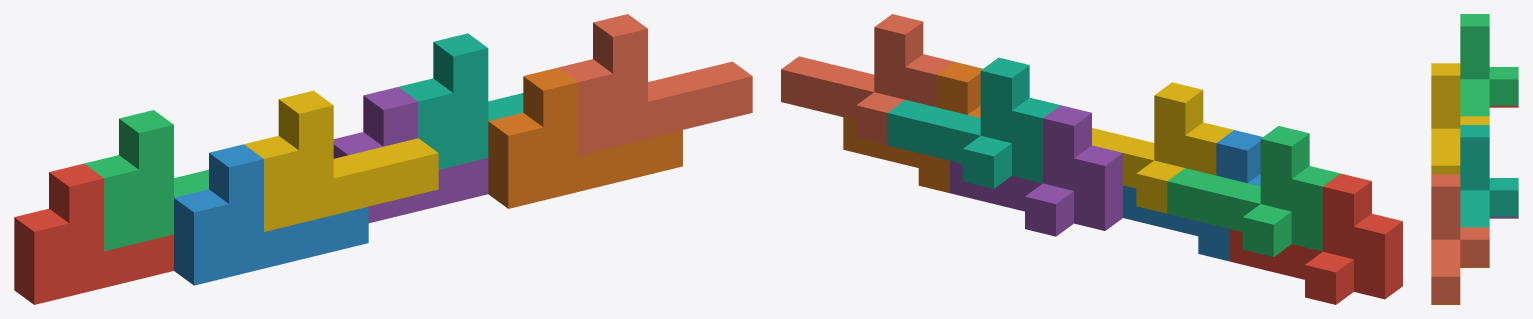
The model's file is tiling.obj.
3 renders of one model, left to right at view 1: azimuth 30°, elevation 25°; view 2: azimuth 150°, elevation 25°; view 3: azimuth 270°, elevation 25°, orthographic. The views are drawn at different scales.
Visible parts, largest first — view 1: copy_1_domain_4, copy_1_domain_8, copy_1_domain_6, copy_1_domain_2, copy_1_domain_1, copy_1_domain_3, copy_1_domain_7, copy_1_domain_5; view 2: copy_1_domain_3, copy_1_domain_7, copy_1_domain_1, copy_1_domain_5, copy_1_domain_8, copy_1_domain_4, copy_1_domain_2, copy_1_domain_6; view 3: copy_1_domain_8, copy_1_domain_3, copy_1_domain_7, copy_1_domain_4, copy_1_domain_6, copy_1_domain_1, copy_1_domain_5.
Part boxes in pixels (x1,y1,x2,y2): copy_1_domain_4: (244,90,438,231); copy_1_domain_8: (558,14,752,155); copy_1_domain_6: (488,67,682,208); copy_1_domain_2: (174,144,368,285); copy_1_domain_1: (14,163,173,304); copy_1_domain_3: (84,110,208,251); copy_1_domain_7: (399,33,523,169); copy_1_domain_5: (333,87,488,223); copy_1_domain_3: (1167,126,1340,257); copy_1_domain_7: (887,57,1060,188); copy_1_domain_1: (1229,173,1402,304); copy_1_domain_5: (949,105,1122,236); copy_1_domain_8: (781,14,953,145); copy_1_domain_4: (1092,82,1233,213); copy_1_domain_2: (1123,130,1262,261); copy_1_domain_6: (843,61,982,192); copy_1_domain_8: (1431,174,1489,303); copy_1_domain_3: (1460,14,1518,116); copy_1_domain_7: (1460,125,1518,227); copy_1_domain_4: (1431,63,1489,174); copy_1_domain_6: (1431,266,1489,304); copy_1_domain_1: (1489,105,1518,107); copy_1_domain_5: (1489,216,1518,218).
Size of the model in its own units: 20 by 4 by 3.
